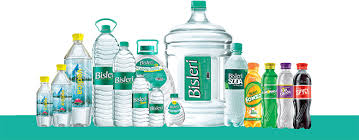Bisleri: (185, 55, 213, 100), (93, 67, 115, 85), (132, 93, 149, 110), (116, 72, 131, 91), (137, 58, 158, 66), (150, 102, 161, 111)
plastic: (164, 33, 226, 122), (115, 46, 140, 127), (95, 24, 114, 126)
